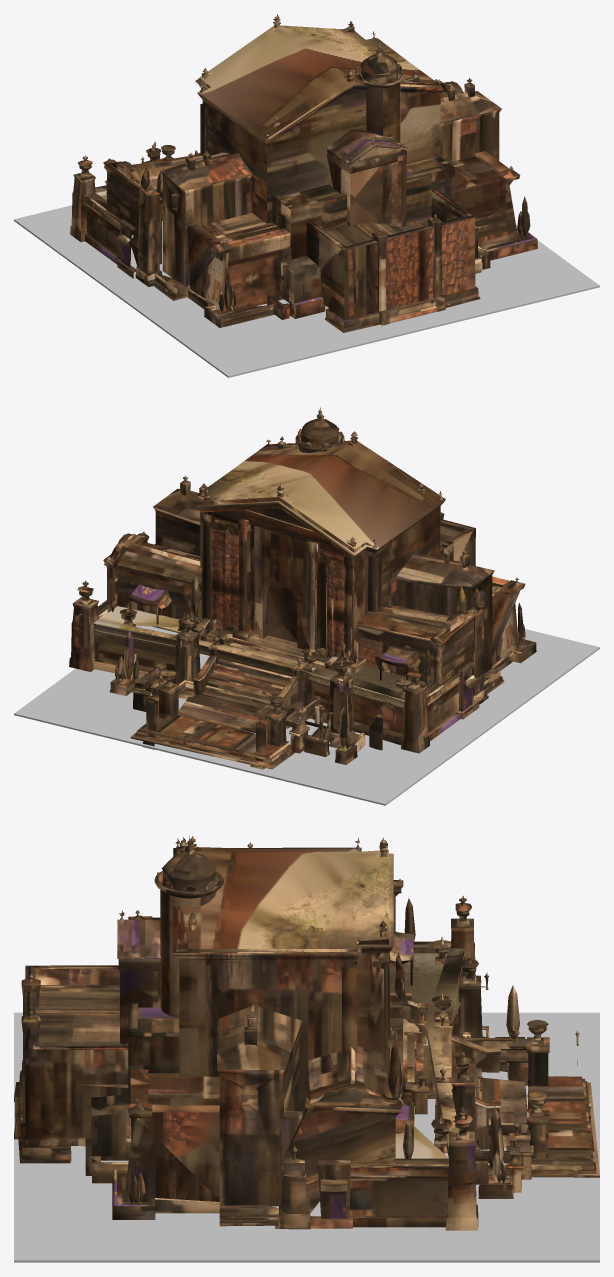
Rendered from Headquarters12.fbx.
3 views of the same model, one above another, from view 1: azimuth 30°, elevation 25°; view 2: azimuth 150°, elevation 25°; view 3: azimuth 270°, elevation 25° (orthographic). The views are drawn at different scales.
Visible parts, largest first — view 1: Headquarters12_OriginalArchitecture, Headquarters12_IntegerGround; view 2: Headquarters12_OriginalArchitecture, Headquarters12_IntegerGround; view 3: Headquarters12_OriginalArchitecture, Headquarters12_IntegerGround.
Part boxes in pixels (box(x1,y1,x2,y2)): Headquarters12_OriginalArchitecture: box(70, 14, 537, 332); Headquarters12_IntegerGround: box(14, 205, 599, 377); Headquarters12_OriginalArchitecture: box(69, 407, 536, 769); Headquarters12_IntegerGround: box(14, 626, 599, 805); Headquarters12_OriginalArchitecture: box(14, 835, 599, 1230); Headquarters12_IntegerGround: box(14, 1012, 599, 1262).
Bounding box in the file's own units: 12 × 7.37 × 12.
